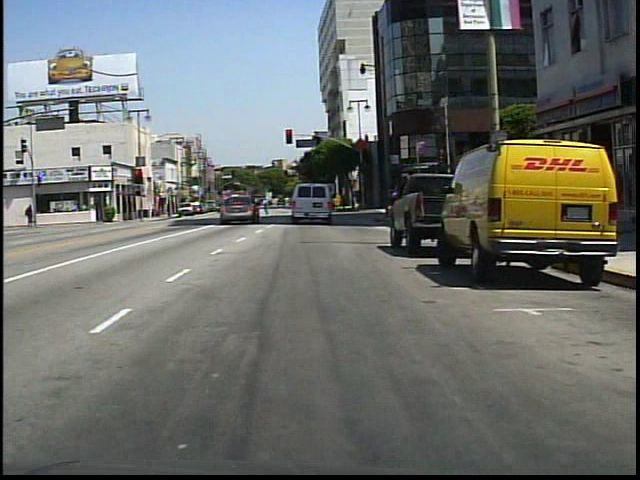person: (287, 191, 304, 222), (259, 193, 274, 219), (24, 202, 36, 226)
